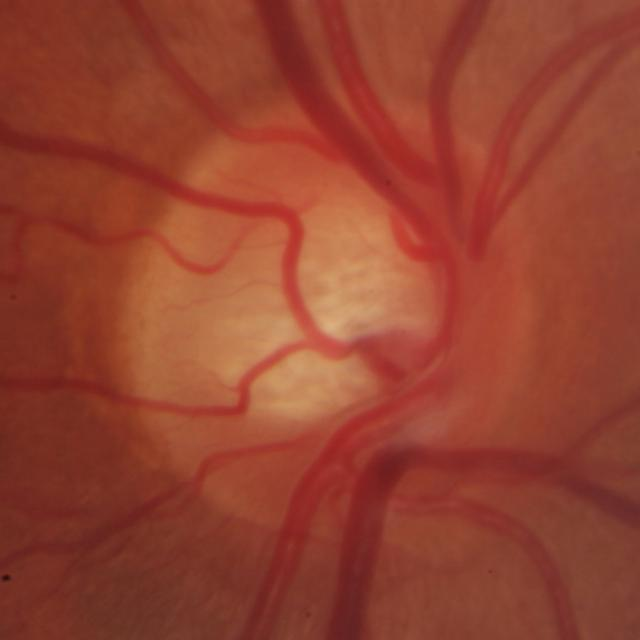OC: (231, 209, 442, 425)
OD: (121, 108, 535, 531)
